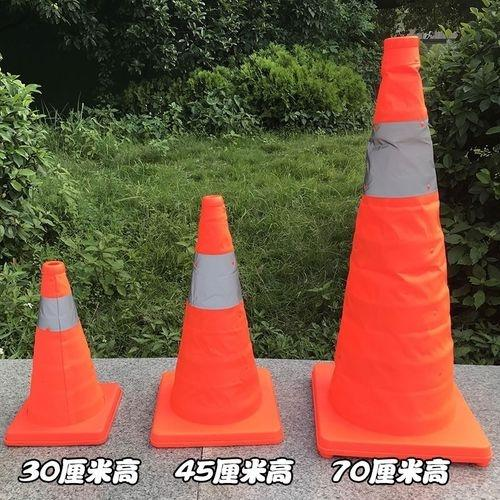cone_barrel: (307, 40, 477, 463), (149, 197, 280, 439), (5, 264, 118, 445)
